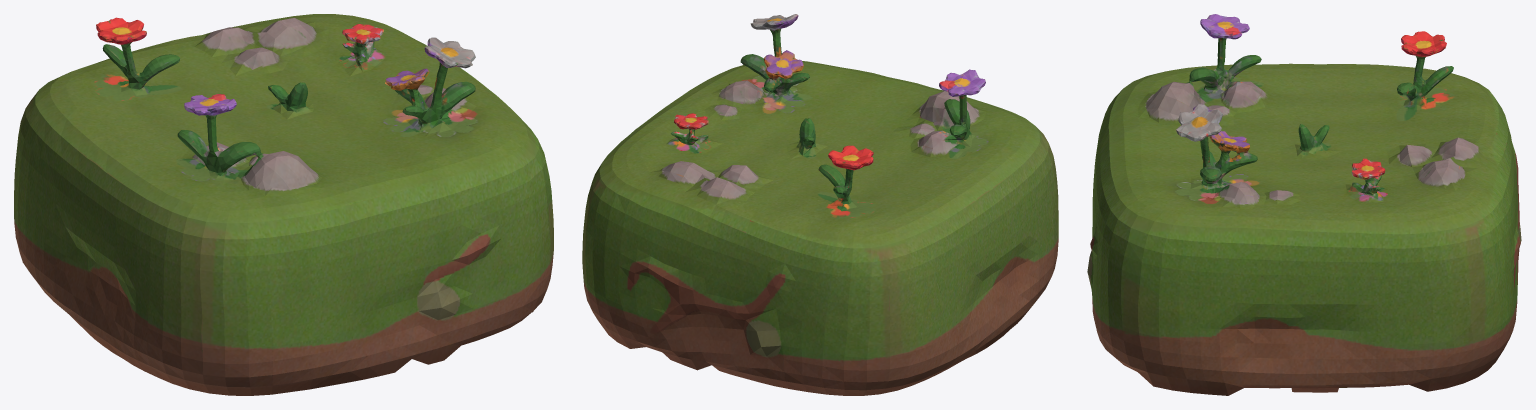
Rendered from Stage_04_Ground_Forest_002.fbx.
3 renders of one model, left to right at view 1: azimuth 30°, elevation 25°; view 2: azimuth 150°, elevation 25°; view 3: azimuth 270°, elevation 25°, orthographic. The views are drawn at different scales.
Parts seen in each view (by area): view 1: Stage_04_Ground_Forest_002; view 2: Stage_04_Ground_Forest_002; view 3: Stage_04_Ground_Forest_002.
Boxes of the visible parts, bbox=[...] form: Stage_04_Ground_Forest_002: bbox=[14, 14, 553, 395]; Stage_04_Ground_Forest_002: bbox=[582, 14, 1058, 395]; Stage_04_Ground_Forest_002: bbox=[1087, 14, 1521, 395].
Bounding box in the file's own units: 96.97 × 61.58 × 98.37.
